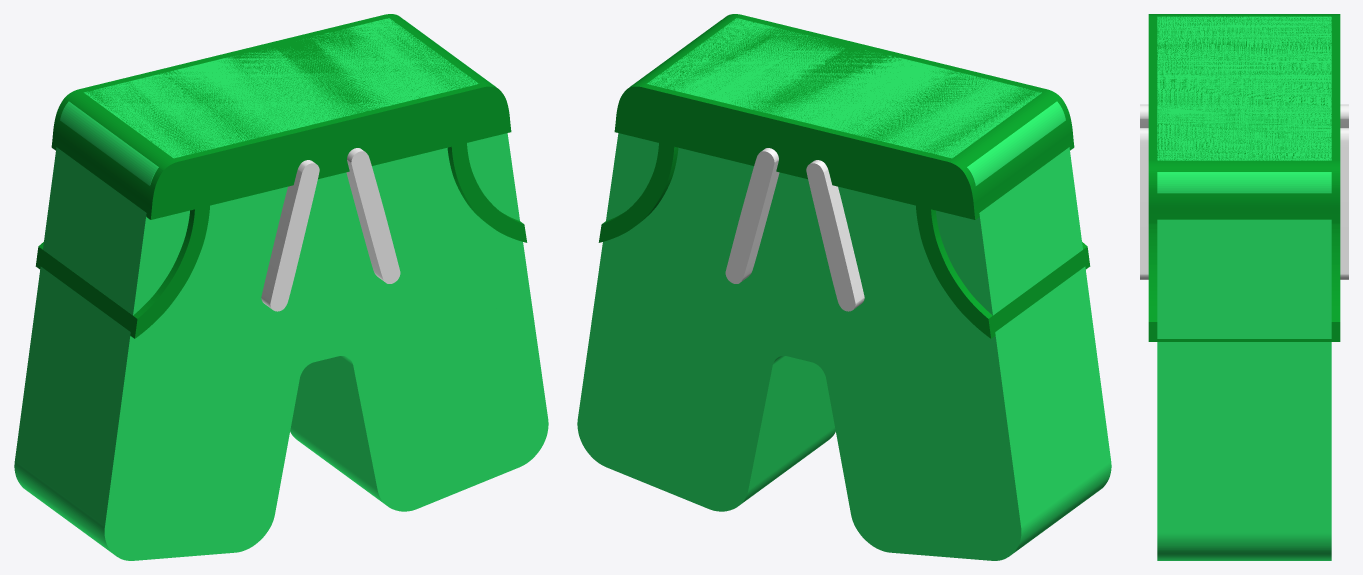
3 views of the same model, side by side, from view 1: azimuth 30°, elevation 25°; view 2: azimuth 150°, elevation 25°; view 3: azimuth 270°, elevation 25° (orthographic). The views are drawn at different scales.
Parts seen in each view (by area): view 1: U+1FA73_layer00_obj00, U+1FA73_layer01_obj00, U+1FA73_layer02_obj00; view 2: U+1FA73_layer00_obj00, U+1FA73_layer01_obj00, U+1FA73_layer02_obj00; view 3: U+1FA73_layer00_obj00, U+1FA73_layer01_obj00, U+1FA73_layer02_obj00.
Part boxes in pixels (x1,y1,x2,y2): U+1FA73_layer00_obj00: (14, 18, 548, 560); U+1FA73_layer01_obj00: (35, 14, 527, 338); U+1FA73_layer02_obj00: (261, 148, 400, 311); U+1FA73_layer00_obj00: (577, 18, 1111, 560); U+1FA73_layer01_obj00: (598, 14, 1090, 338); U+1FA73_layer02_obj00: (725, 148, 864, 311); U+1FA73_layer00_obj00: (1157, 16, 1331, 560); U+1FA73_layer01_obj00: (1148, 14, 1340, 341); U+1FA73_layer02_obj00: (1140, 104, 1348, 279).
Bounding box in the file's own units: 0.569 × 0.5025 × 0.24.
